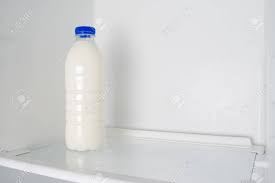milk: (62, 12, 114, 150)
